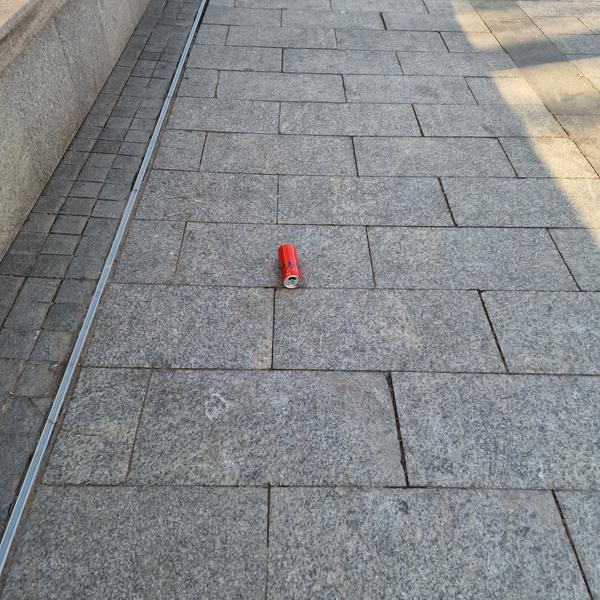can: (275, 242, 303, 290)
